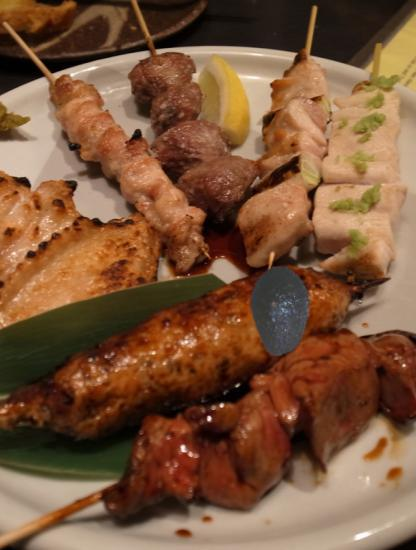Avocado: (235, 267, 324, 356)
